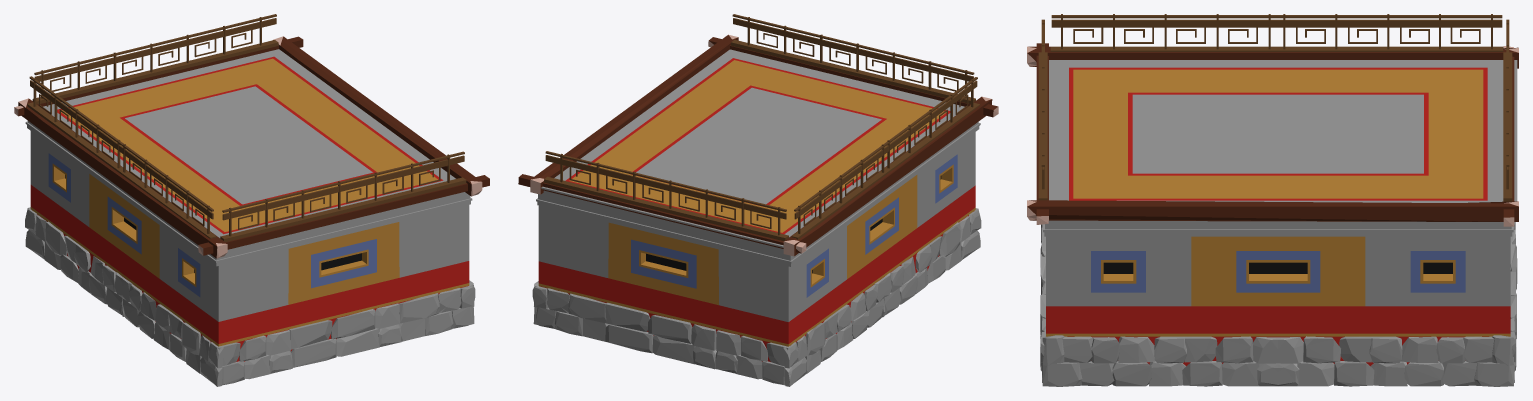
The model's file is SM_attachment_building_01.fbx.
3 renders of one model, left to right at view 1: azimuth 30°, elevation 25°; view 2: azimuth 150°, elevation 25°; view 3: azimuth 270°, elevation 25°, orthographic. The views are drawn at different scales.
Parts seen in each view (by area): view 1: Object247; view 2: Object247; view 3: Object247.
Part boxes in pixels (<box>): Object247: <box>14,14,489,386</box>; Object247: <box>518,14,998,386</box>; Object247: <box>1027,14,1518,386</box>.
Size of the model in its own units: 345 by 199 by 411.
